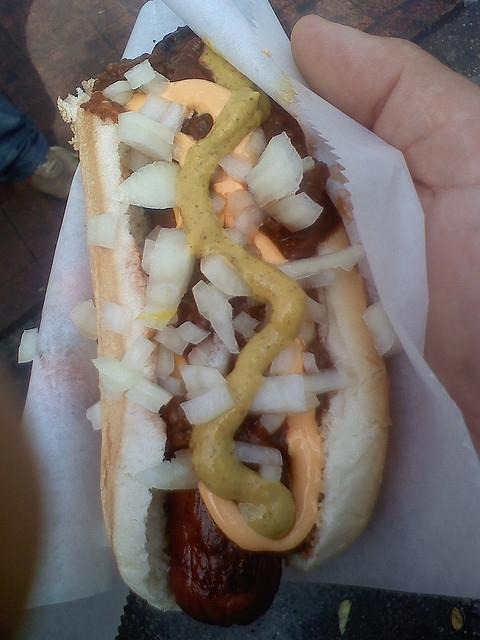onion: (245, 130, 304, 208), (192, 280, 240, 354), (107, 162, 181, 210), (222, 189, 270, 260), (274, 244, 366, 281), (134, 448, 200, 490), (138, 93, 190, 138), (363, 301, 404, 358), (115, 122, 172, 162), (200, 254, 254, 296), (180, 384, 235, 425), (248, 374, 306, 412), (235, 441, 283, 482), (92, 355, 140, 393), (124, 377, 174, 412), (180, 364, 228, 394), (130, 302, 177, 331), (120, 335, 156, 372), (69, 298, 100, 340), (270, 338, 304, 376), (100, 300, 134, 338), (204, 332, 232, 378), (87, 214, 119, 248), (302, 370, 344, 395), (219, 152, 253, 182), (142, 225, 162, 275), (124, 59, 156, 89), (245, 125, 269, 163), (232, 312, 262, 342), (187, 334, 214, 366), (139, 70, 171, 96), (100, 82, 134, 106), (176, 320, 210, 344), (18, 327, 38, 362), (156, 344, 174, 381), (260, 412, 286, 437), (158, 375, 185, 396), (306, 295, 324, 322), (86, 400, 102, 430), (298, 321, 316, 347), (300, 352, 320, 374), (209, 192, 226, 214), (304, 392, 320, 409)
